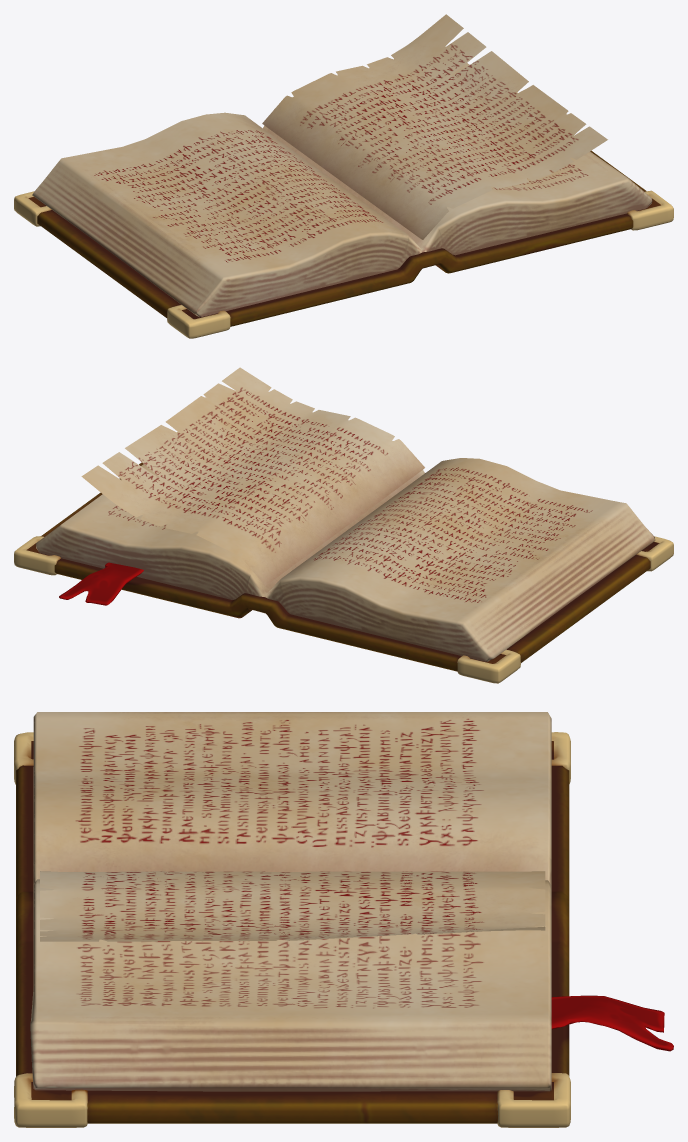
The model's file is SM_BookOpen.fbx.
3 renders of one model, top to bottom at view 1: azimuth 30°, elevation 25°; view 2: azimuth 150°, elevation 25°; view 3: azimuth 270°, elevation 25°, orthographic. The views are drawn at different scales.
Parts seen in each view (by area): view 1: SM_BookOpen_LOD0; view 2: SM_BookOpen_LOD0; view 3: SM_BookOpen_LOD0.
Boxes of the visible parts, x1,y1,x2,y2 form: SM_BookOpen_LOD0: (14,14,673,338); SM_BookOpen_LOD0: (14,367,673,683); SM_BookOpen_LOD0: (14,712,673,1127).
Size of what is drawn, in the model's own units: 1.23 by 0.2396 by 0.9169.
